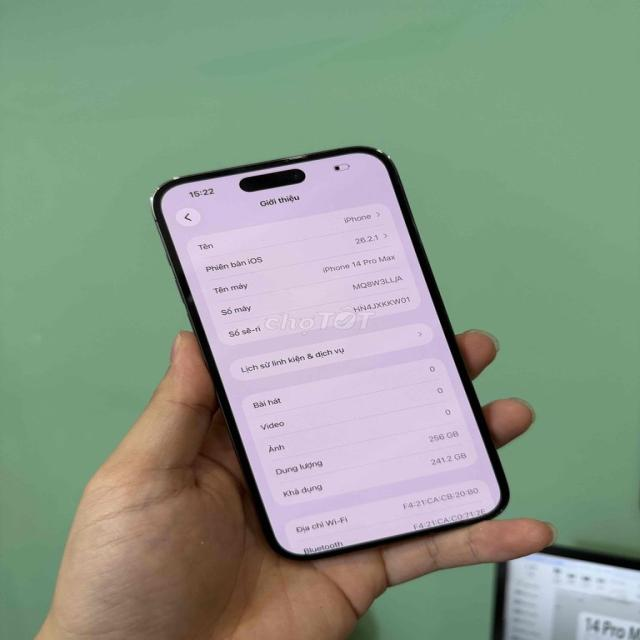gen_14: (147, 146, 517, 563)
